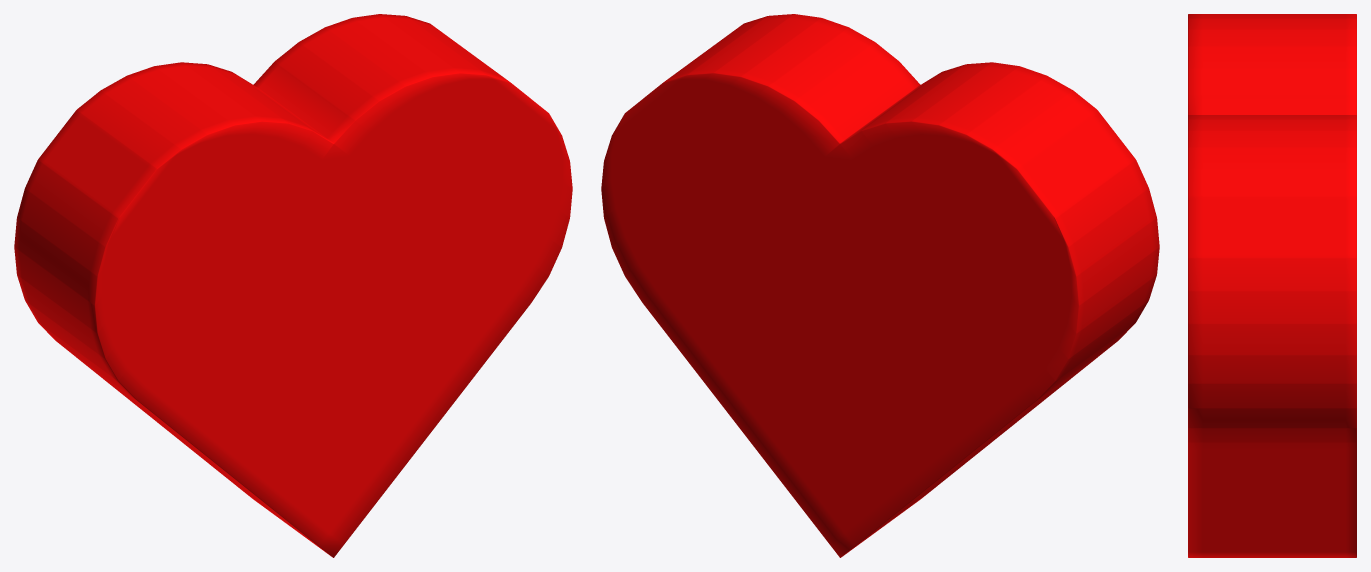
The model's file is Heart.fbx.
3 views of the same model, side by side, from view 1: azimuth 30°, elevation 25°; view 2: azimuth 150°, elevation 25°; view 3: azimuth 270°, elevation 25° (orthographic). The views are drawn at different scales.
Parts seen in each view (by area): view 1: Circle; view 2: Circle; view 3: Circle.
Boxes of the visible parts, x1=… form: Circle: x1=14, y1=14, x2=572, y2=557; Circle: x1=601, y1=14, x2=1159, y2=557; Circle: x1=1188, y1=14, x2=1356, y2=557.
Bounding box in the file's own units: 341 × 312 × 100.
